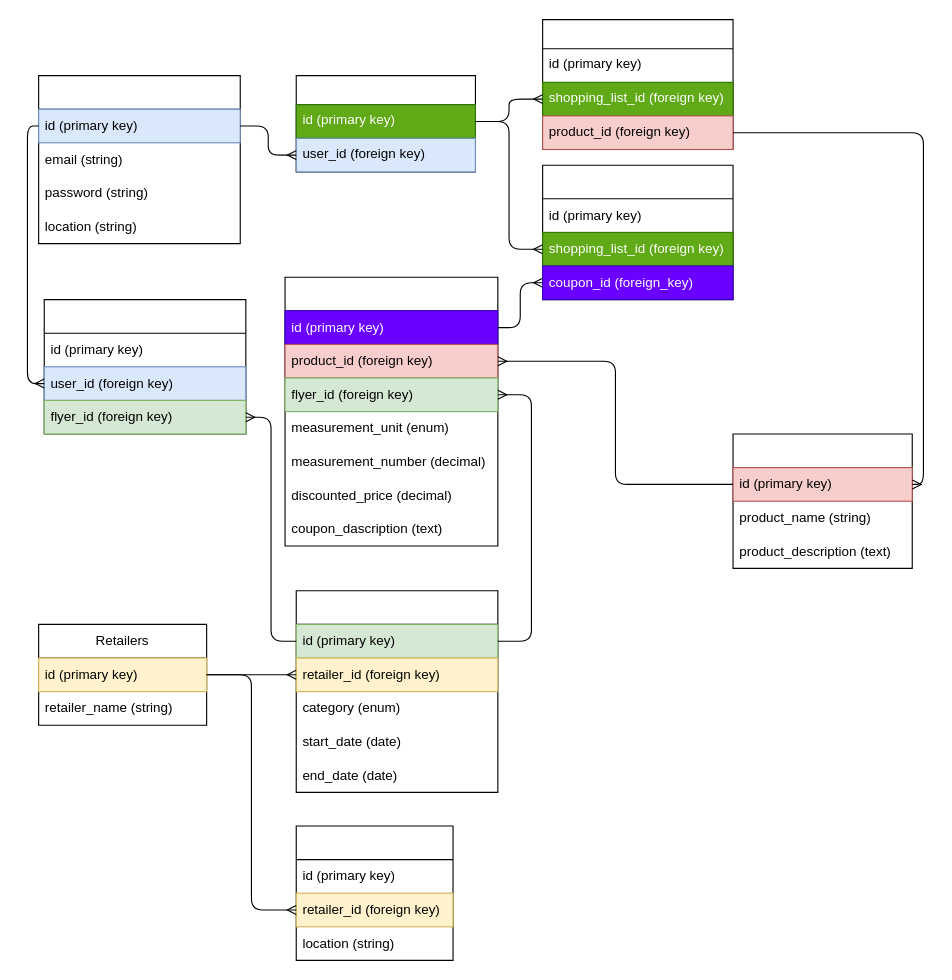
Image size: 952x980. Some labels were removed from this diagram. Each missing label, with the box of its shape:
Clipped Coupons: (542, 164, 733, 300)
Coupons: (284, 276, 498, 546)
Favourite Flyers: (43, 298, 246, 434)
Flyers: (295, 590, 498, 792)
Products: (732, 433, 912, 568)
Shopping Lists: (295, 74, 475, 172)
Shopping Lists Contents: (542, 18, 733, 150)
Stores: (295, 825, 453, 960)
Users: (38, 74, 240, 244)
